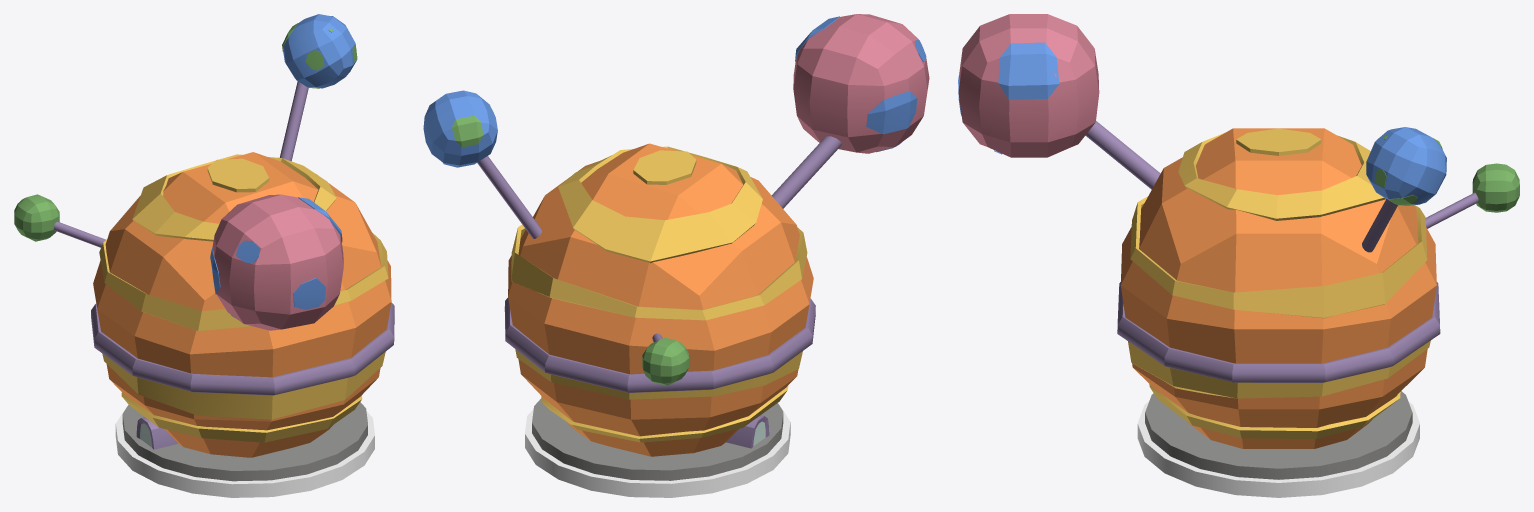
File: Planetarium.fbx
The picture shows the model from 3 angles, left to right: view 1: azimuth 30°, elevation 25°; view 2: azimuth 150°, elevation 25°; view 3: azimuth 270°, elevation 25°; orthographic projection. The views are drawn at different scales.
Parts seen in each view (by area): view 1: Planetarium; view 2: Planetarium; view 3: Planetarium.
Boxes of the visible parts, bbox=[...] form: Planetarium: bbox=[14, 14, 394, 497]; Planetarium: bbox=[423, 14, 929, 497]; Planetarium: bbox=[958, 14, 1519, 497].
Size of the model in its own units: 783 by 1147 by 853.
